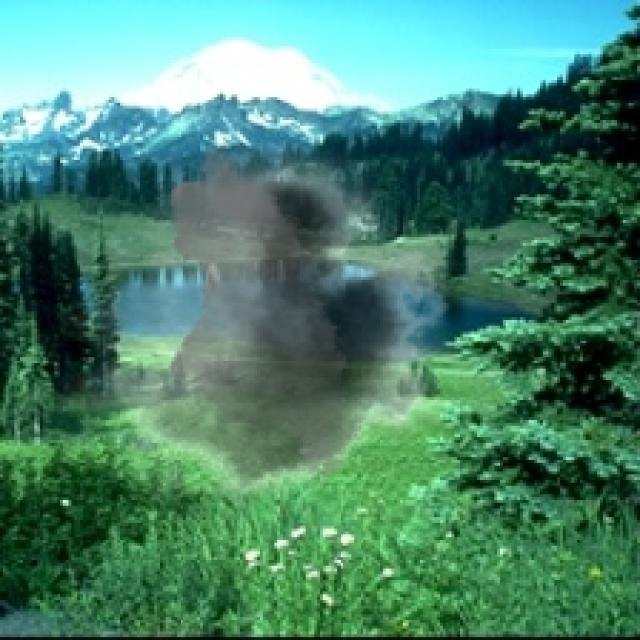Smoke: (59, 143, 472, 520)
